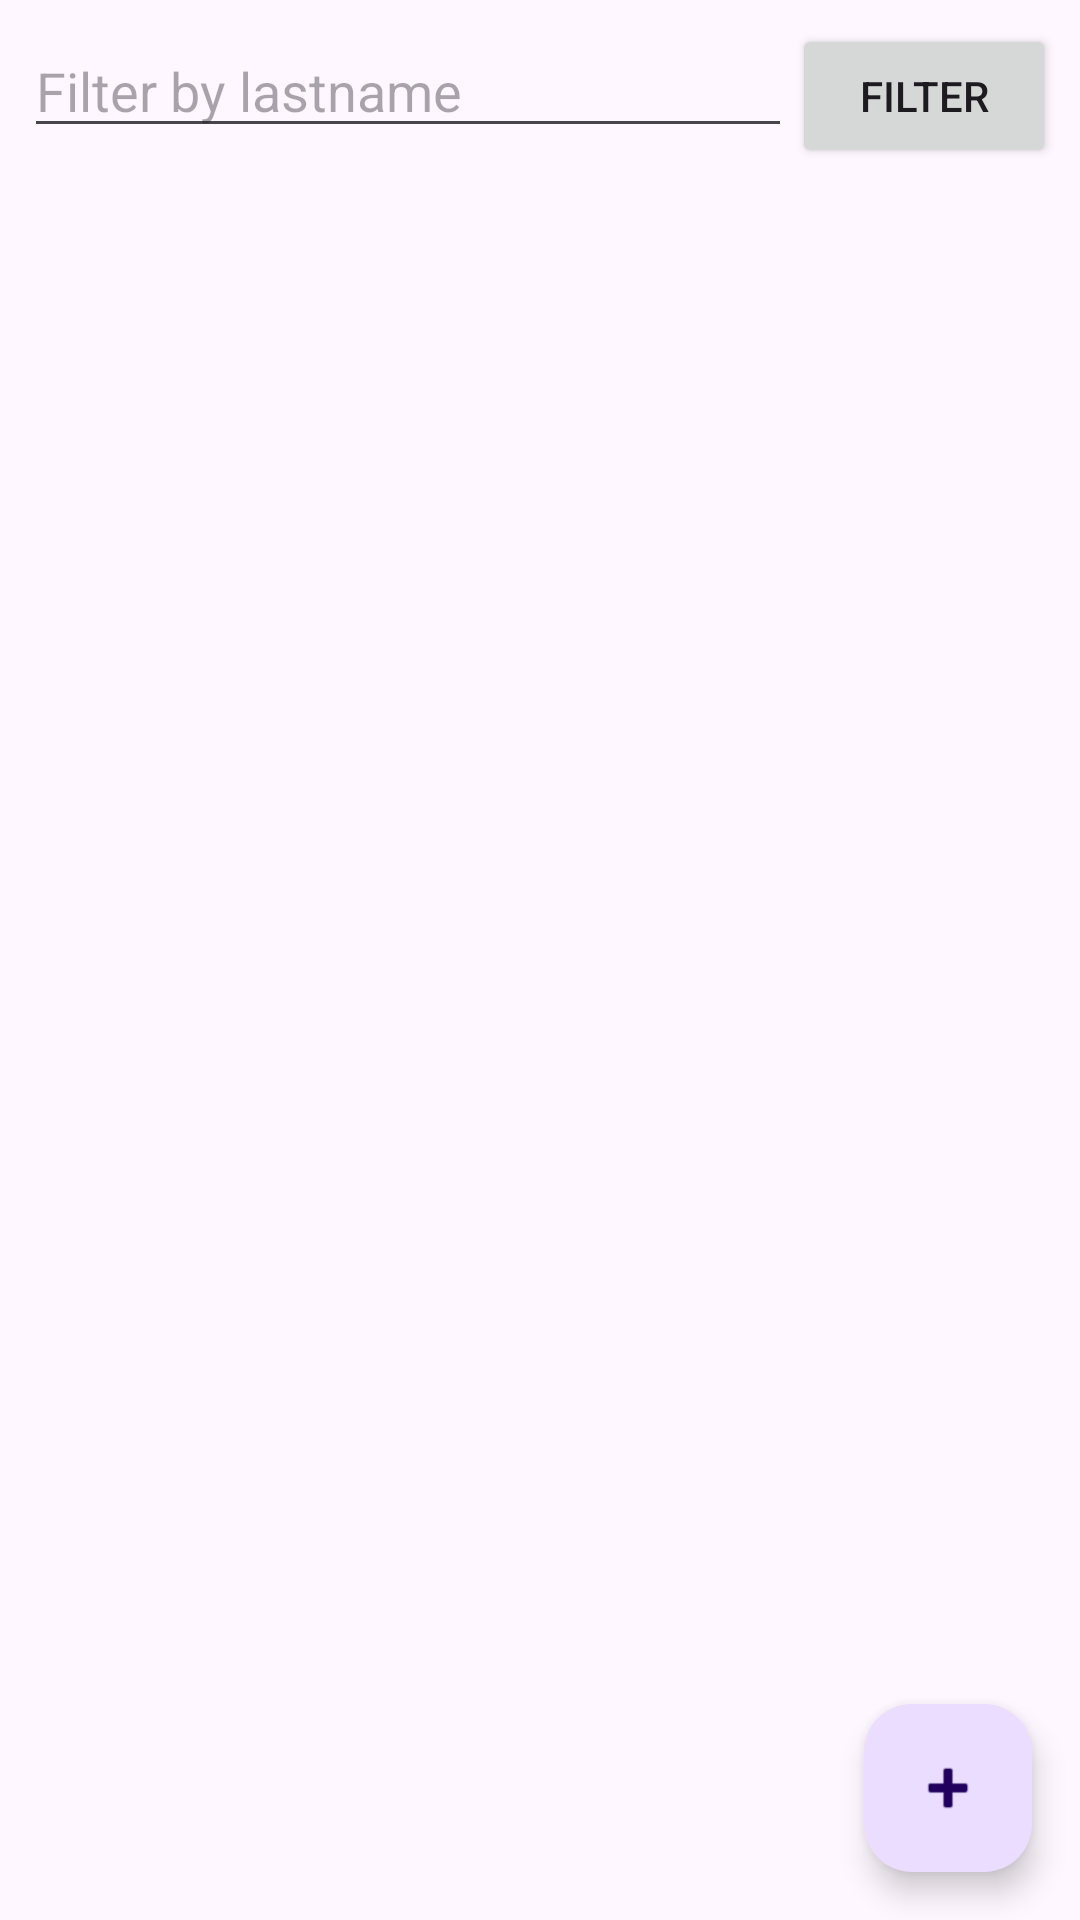

Named icons in this screenshot (1080*1920) and their centers, point (x, y):
Add an Author: point (948, 1788)
